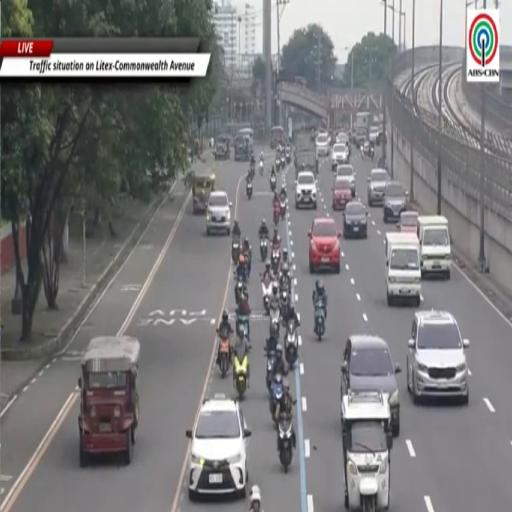bus: (270, 126, 284, 149)
car: (186, 394, 251, 501), (342, 334, 401, 436), (407, 311, 469, 405), (308, 217, 341, 273), (207, 190, 232, 234), (383, 181, 408, 222), (343, 200, 368, 238), (295, 171, 317, 209), (367, 168, 388, 207), (336, 165, 356, 197), (333, 179, 352, 210), (399, 211, 419, 233), (332, 143, 348, 170), (316, 134, 329, 156), (369, 126, 378, 145), (336, 133, 349, 145)
jeepney: (78, 335, 140, 467), (342, 390, 392, 511), (192, 173, 216, 214), (214, 135, 230, 159)
motorcycle: (278, 413, 293, 472), (270, 374, 284, 424), (234, 349, 248, 399), (285, 320, 298, 369), (219, 333, 230, 377), (266, 350, 276, 392), (315, 302, 325, 341), (262, 280, 273, 314), (236, 313, 249, 339), (270, 307, 281, 335), (280, 288, 290, 317), (234, 264, 248, 283), (280, 271, 291, 294), (271, 248, 280, 275), (232, 238, 241, 263), (235, 281, 243, 307), (260, 236, 267, 261), (273, 205, 280, 227), (280, 197, 287, 218), (246, 182, 253, 199), (270, 175, 276, 191), (250, 161, 256, 177), (286, 147, 291, 163), (281, 154, 285, 169), (259, 160, 263, 175), (276, 157, 280, 171), (370, 147, 374, 161)
truck: (294, 131, 318, 174), (354, 112, 372, 147)
